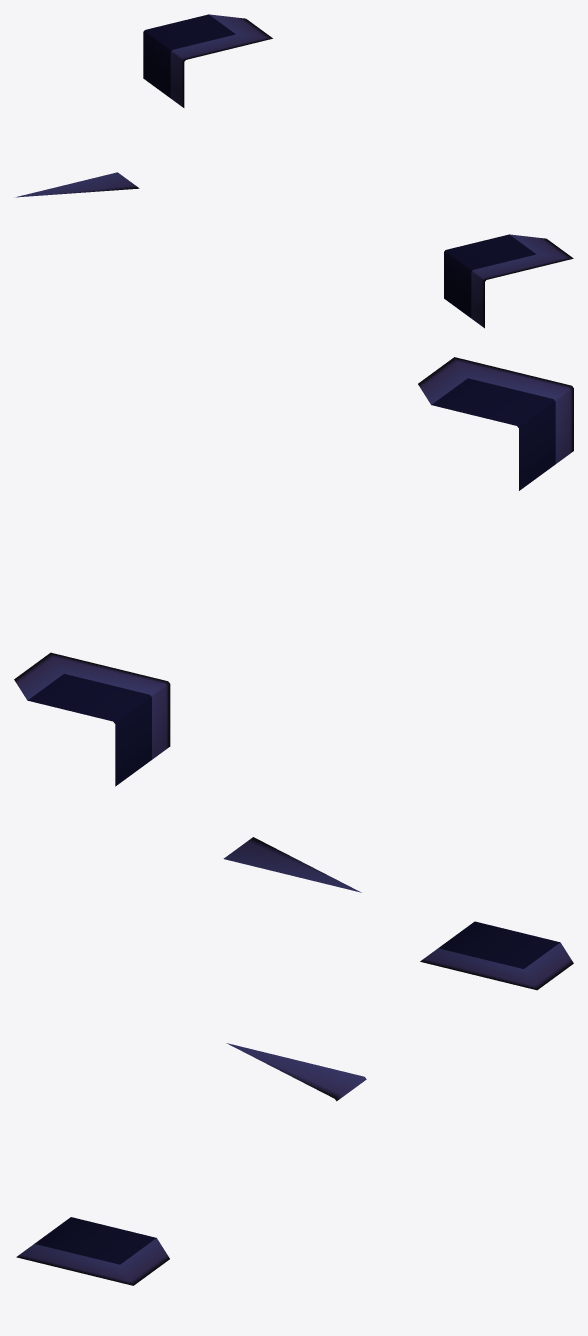
3 views of the same model, one above another, from view 1: azimuth 30°, elevation 25°; view 2: azimuth 150°, elevation 25°; view 3: azimuth 330°, elevation 25° (orthographic). The views are drawn at different scales.
Parts seen in each view (by area): view 1: Joint_0_Object_0; view 2: Joint_0_Object_0; view 3: Joint_0_Object_0.
Part boxes in pixels (<box>): Joint_0_Object_0: <box>14,14,573,328</box>; Joint_0_Object_0: <box>14,357,573,892</box>; Joint_0_Object_0: <box>16,921,573,1285</box>.
Bounding box in the file's own units: 1038 × 446 × 2500.
1 material, 1 textured.
